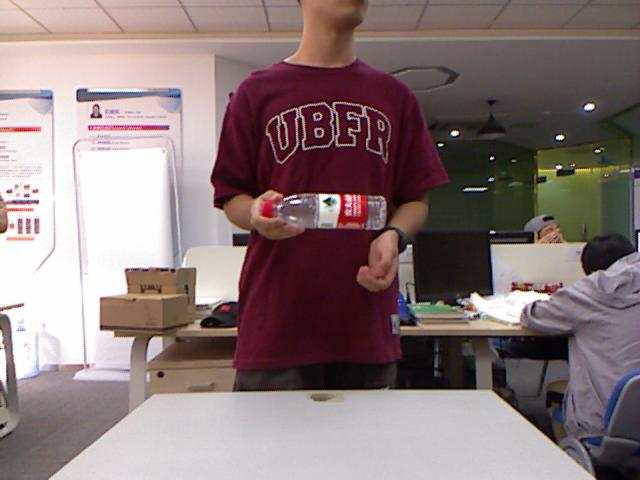cardboard paper: (148, 337, 234, 395), (100, 295, 195, 336)
plastic: (262, 192, 385, 228)
